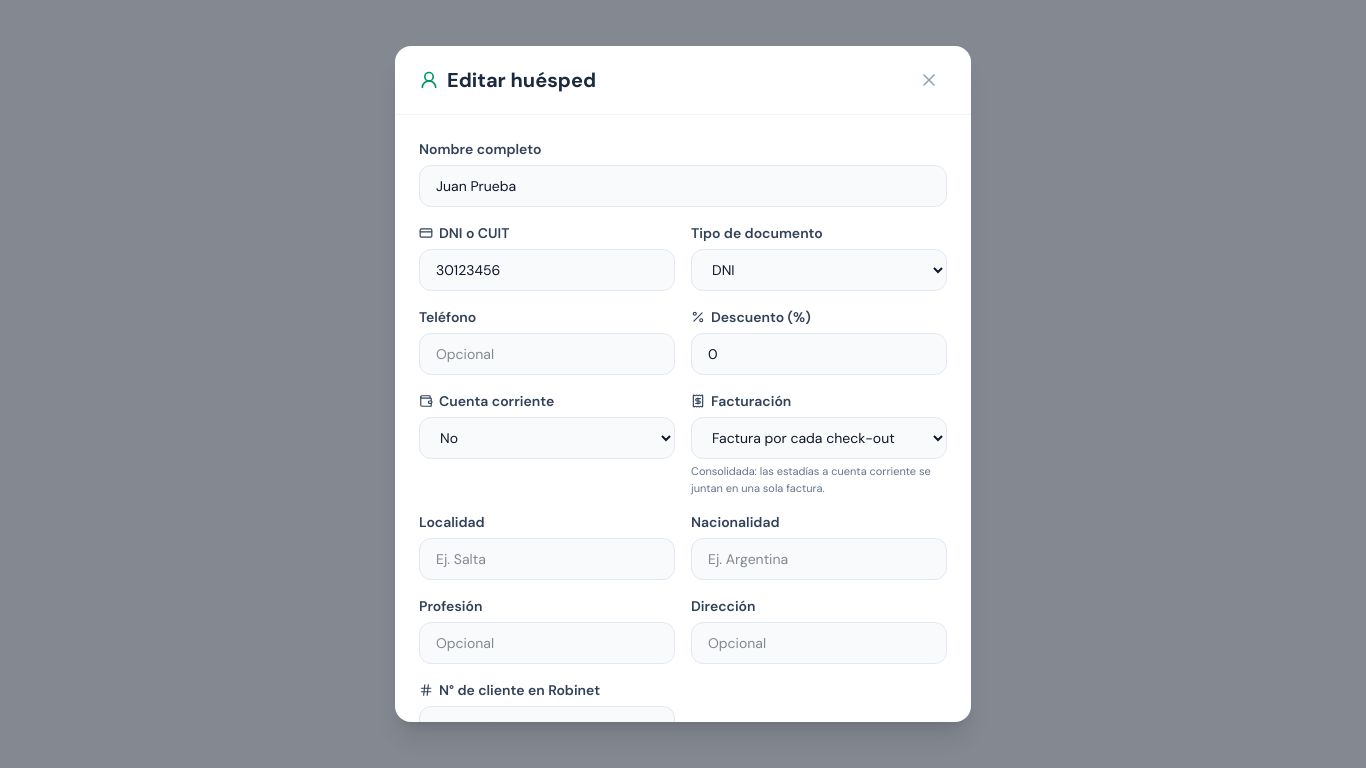
Test case: GuestModal: cuenta corriente y modo de facturación › poner Cuenta corriente = Sí deja elegida 'Factura consolidada' y muestra la nota
Expected: the dropdown labelled "Facturación" shows "Factura por cada check-out", [691,417,947,459]
Select "Sí — habilitado a fiar" in the dropdown labelled "Cuenta corriente": (547, 438) [419,417,675,459]
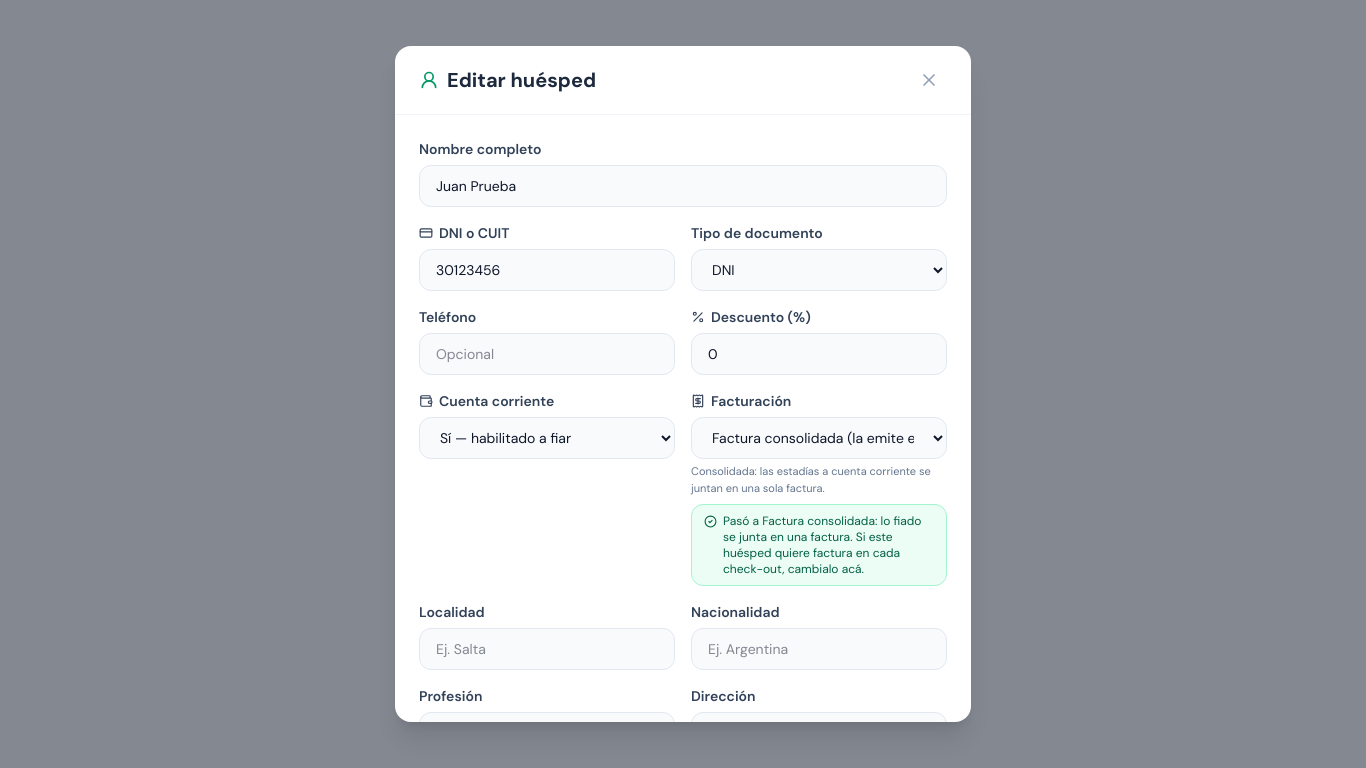
Expected: the dropdown labelled "Facturación" shows "Factura consolidada (la emite el admin)", [691,417,947,459]
Expected: the text "Pasó a Factura consolidada" is shown, [723,513,921,577]
